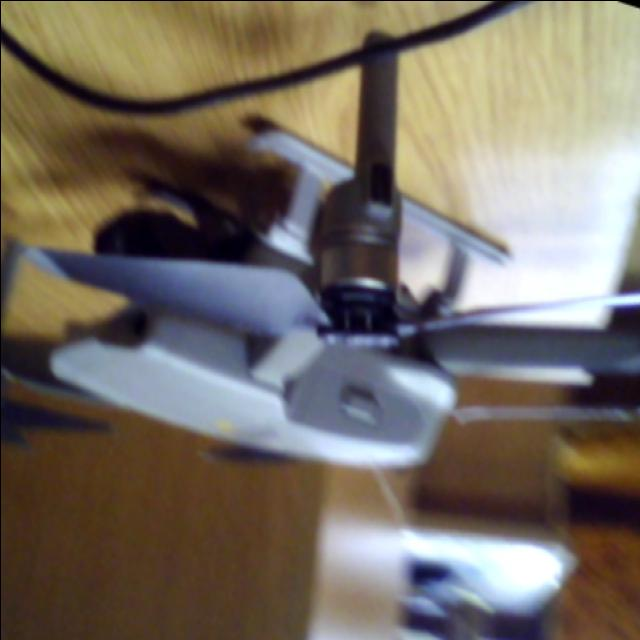drone: (0, 50, 640, 528)
